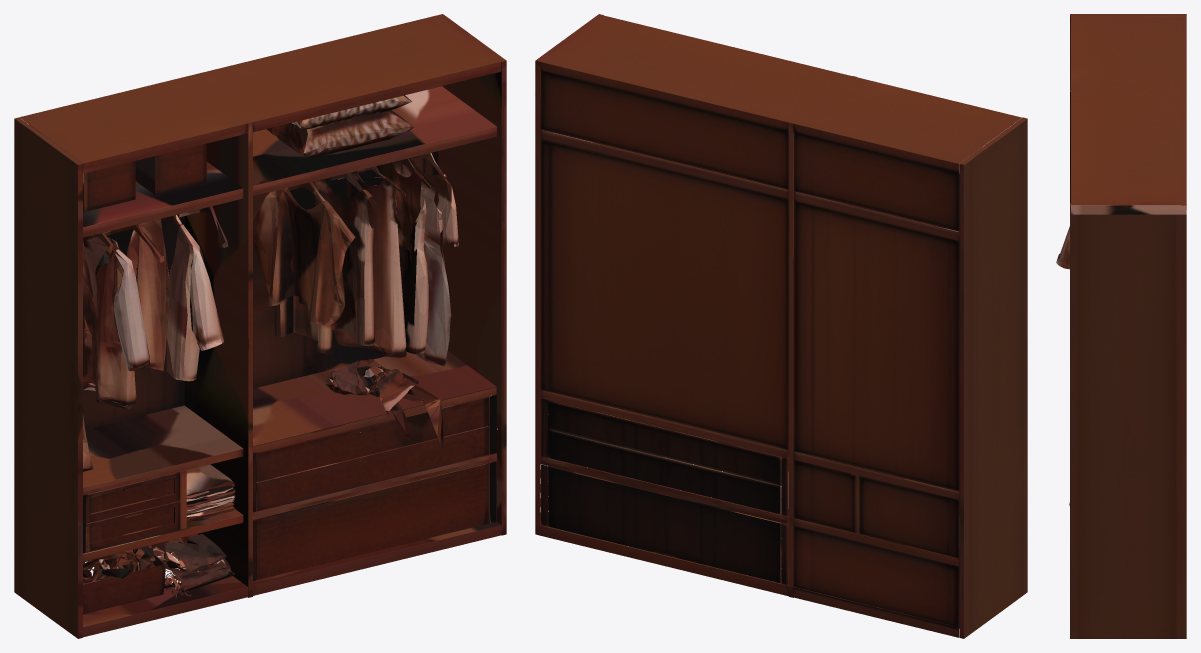
File: edited_mesh.glb
3 renders of one model, left to right at view 1: azimuth 30°, elevation 25°; view 2: azimuth 150°, elevation 25°; view 3: azimuth 270°, elevation 25°, orthographic. The views are drawn at different scales.
Visible parts, largest first — view 1: solid_001_wire; view 2: solid_001_wire; view 3: solid_001_wire.
Boxes of the visible parts, x1,y1,x2,y2 form: solid_001_wire: [14, 14, 506, 638]; solid_001_wire: [535, 14, 1027, 638]; solid_001_wire: [1056, 14, 1186, 638].
Bounding box in the file's own units: 1.28 × 1.36 × 0.3697.
Materials: 1 (1 with a texture image).
